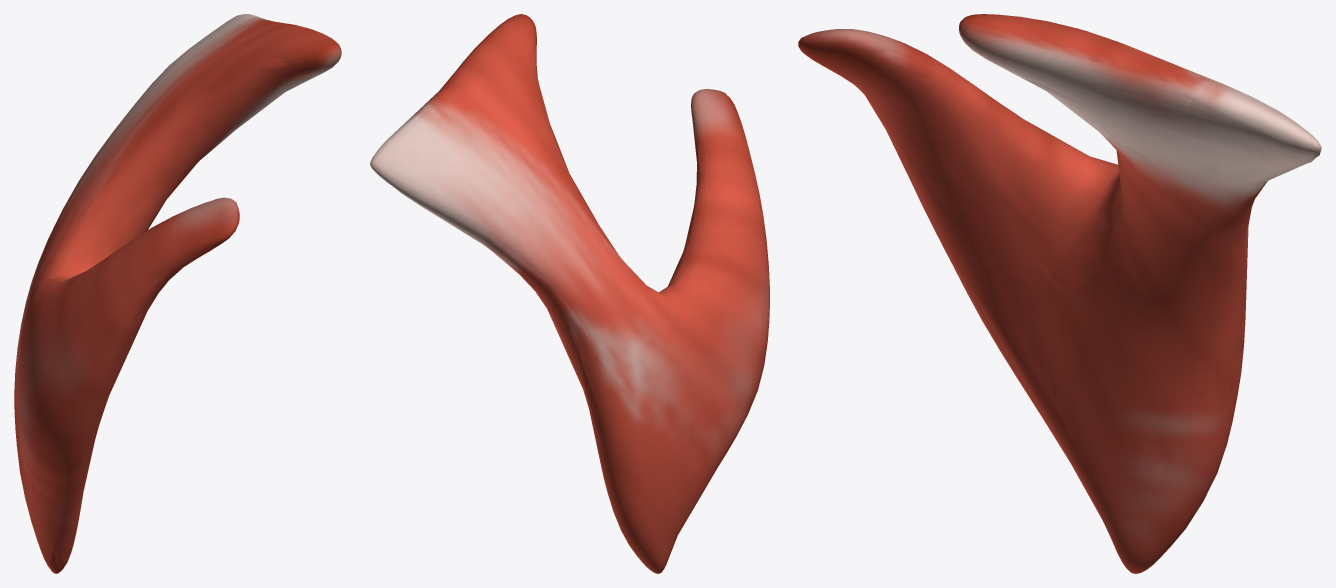
File: R Gluteus Superficialis.fbx
3 renders of one model, left to right at view 1: azimuth 30°, elevation 25°; view 2: azimuth 150°, elevation 25°; view 3: azimuth 270°, elevation 25°, orthographic. The views are drawn at different scales.
Parts seen in each view (by area): view 1: R Gluteus Superficialis, R Gluteus Superficialis low; view 2: R Gluteus Superficialis, R Gluteus Superficialis low; view 3: R Gluteus Superficialis low, R Gluteus Superficialis.
Part boxes in pixels (bbox=[...]): R Gluteus Superficialis: bbox=[14, 14, 341, 573]; R Gluteus Superficialis low: bbox=[15, 14, 336, 573]; R Gluteus Superficialis: bbox=[370, 14, 769, 573]; R Gluteus Superficialis low: bbox=[370, 34, 759, 566]; R Gluteus Superficialis low: bbox=[810, 19, 1319, 562]; R Gluteus Superficialis: bbox=[798, 14, 1321, 573].
Size of the model in its own units: 9.32 by 14.55 by 9.95.
